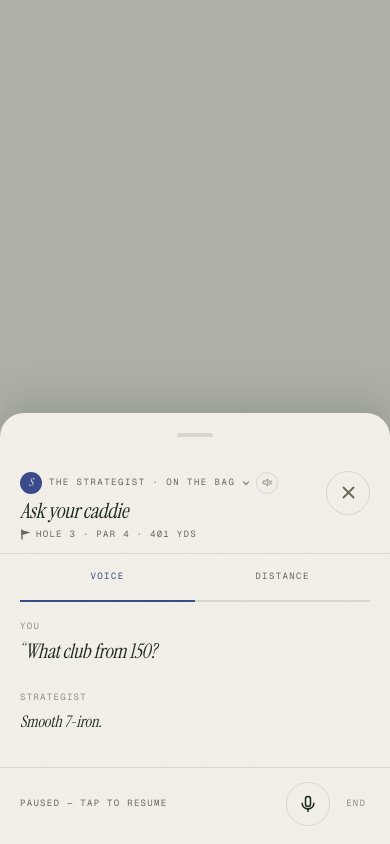
Test case: CaddieSheet live mode — Slice E idle suspend/resume › suspend -> resume -> live, no re-greet, order offset applied
Click the button named "Resume listening": [308, 804] box [286,782,330,826]
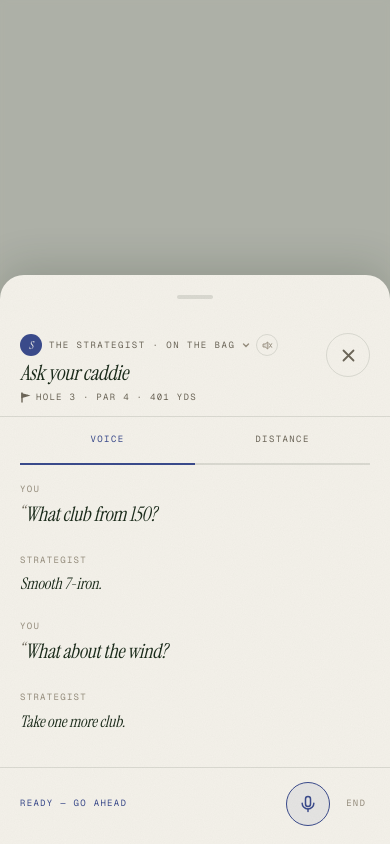
Result: the button named "Mute" is shown at [286,782,330,826]
Result: the text "Paused — tap to resume" is gone
